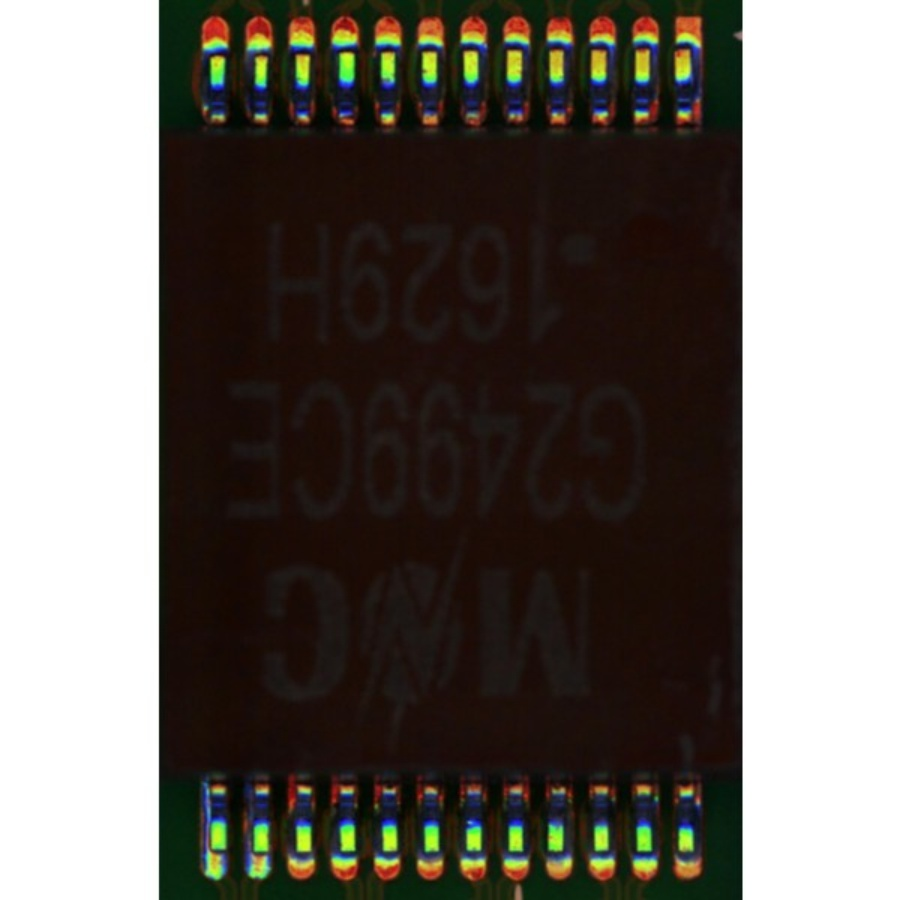Bad_podu: (253, 844, 267, 862), (210, 844, 225, 860)
Bad_qiaojiao: (200, 778, 211, 849)
